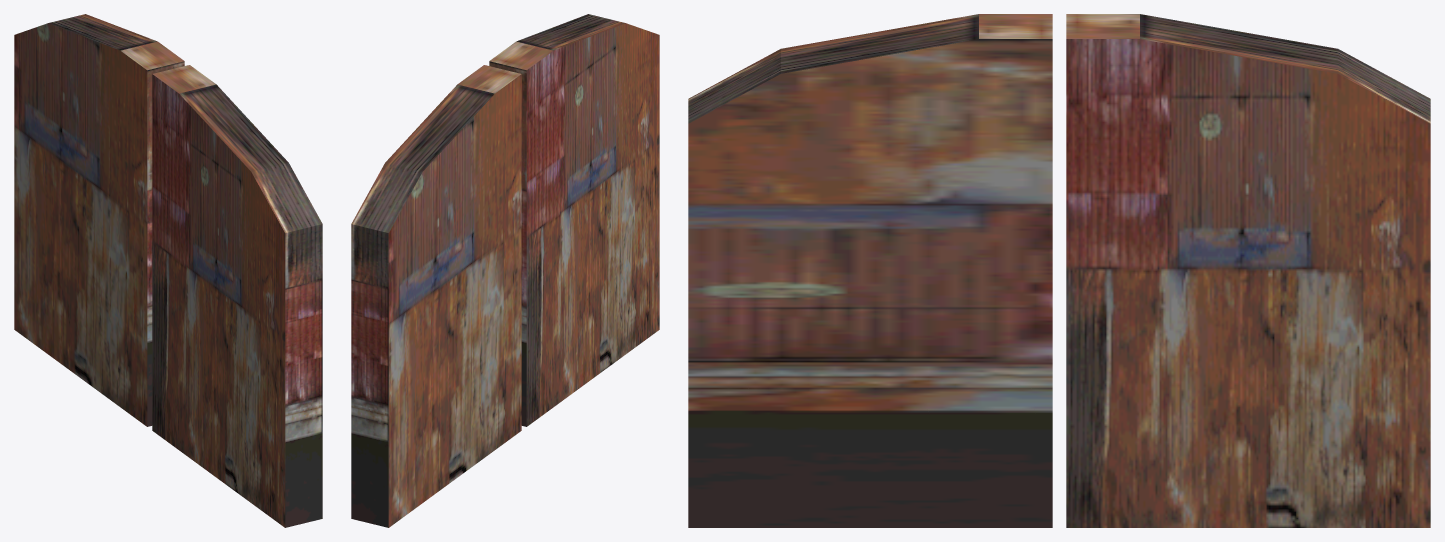
The model's file is vorota 2.fbx.
3 renders of one model, left to right at view 1: azimuth 30°, elevation 25°; view 2: azimuth 150°, elevation 25°; view 3: azimuth 270°, elevation 25°, orthographic. The views are drawn at different scales.
Parts seen in each view (by area): view 1: Cube.051, Cube.049; view 2: Cube.049, Cube.051; view 3: Cube.051, Cube.049.
Boxes of the visible parts, box(x1,y1,x2,y2) form: Cube.051: box(152, 65, 322, 527); Cube.049: box(14, 14, 184, 426); Cube.049: box(351, 65, 521, 527); Cube.051: box(489, 14, 659, 426); Cube.051: box(688, 14, 1052, 527); Cube.049: box(1066, 14, 1430, 527).
Size of the model in its own units: 103 by 937 by 1290.
